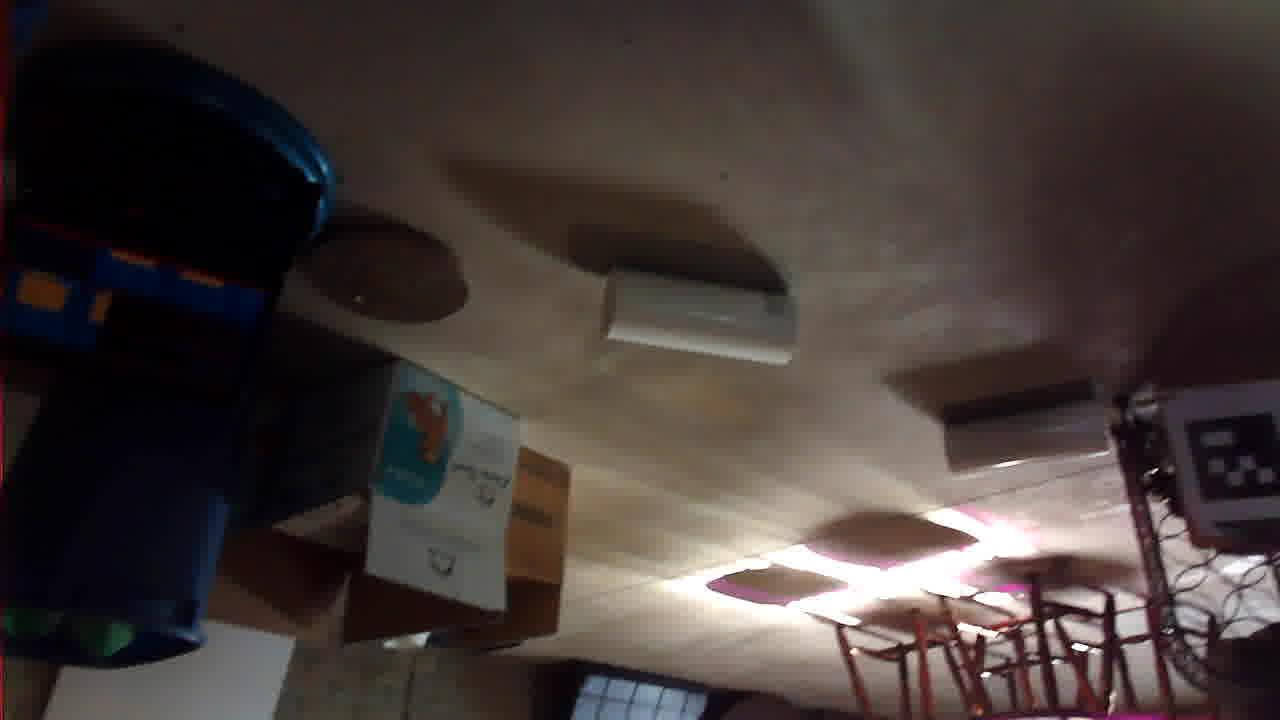coral: (482, 355, 679, 448), (171, 238, 336, 316)
